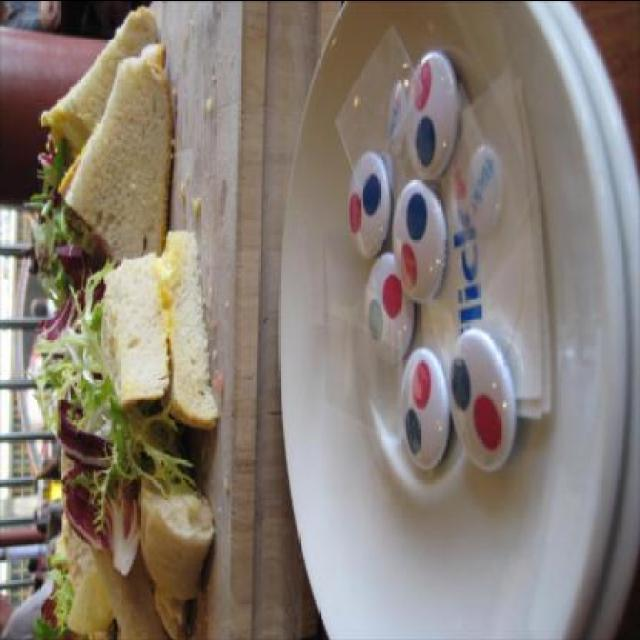Sandwich: (41, 8, 177, 266), (94, 225, 222, 432), (135, 464, 219, 636)
